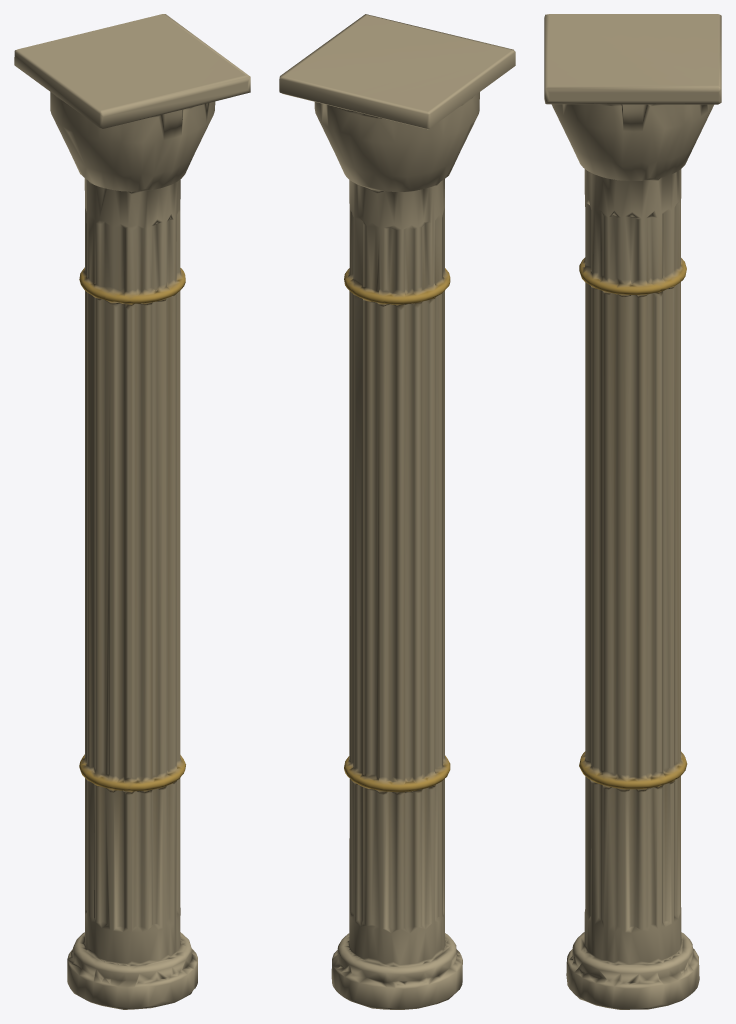
Rendered from lumiere-column.glb.
3 renders of one model, left to right at view 1: azimuth 30°, elevation 25°; view 2: azimuth 150°, elevation 25°; view 3: azimuth 270°, elevation 25°, orthographic.
Visible parts, largest first — view 1: lumiere-column_LOD0; view 2: lumiere-column_LOD0; view 3: lumiere-column_LOD0.
Boxes of the visible parts, <box> form: lumiere-column_LOD0: <box>14,14,250,1009</box>; lumiere-column_LOD0: <box>279,14,515,1009</box>; lumiere-column_LOD0: <box>544,14,721,1009</box>.
Size of what is drawn, in the model's own units: 0.8795 by 5.1 by 0.8797.
